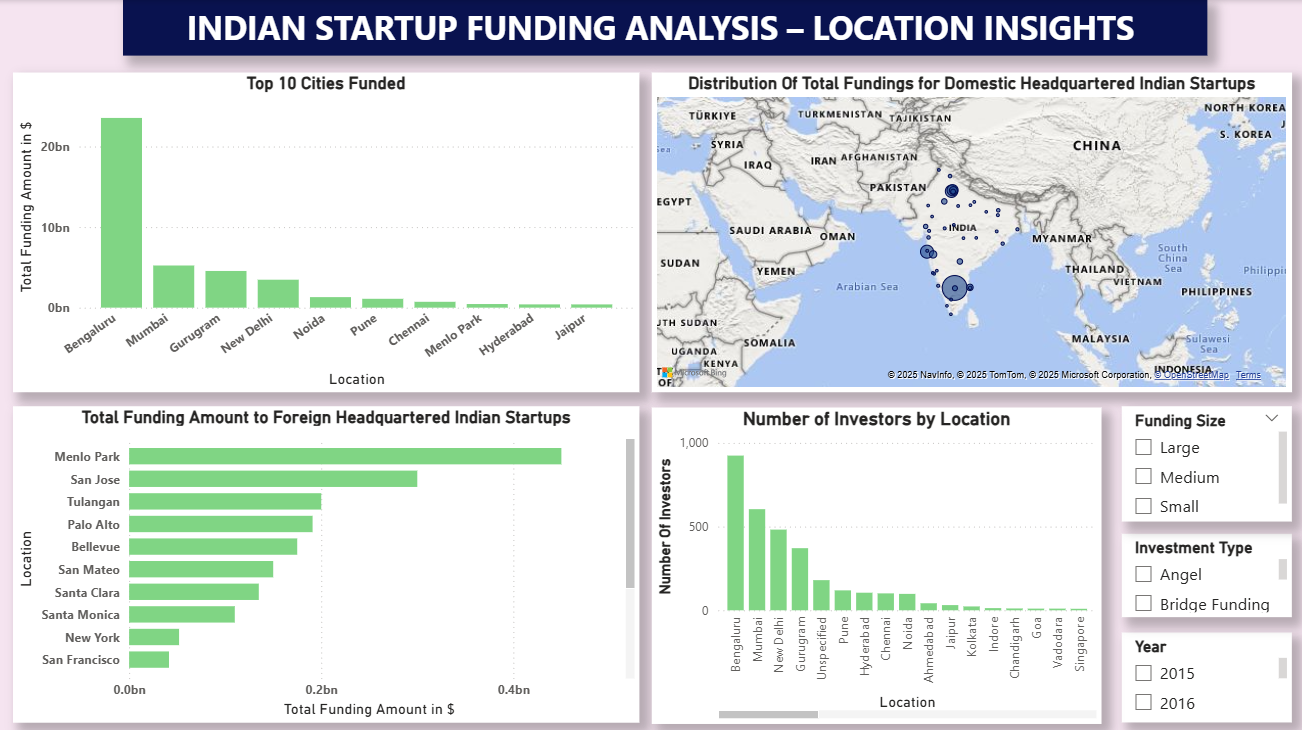

This screenshot's page, from the dashboard's own definition file:
{"tool":"powerbi","page":{"name":"Location Insights","canvas":[1280,720],"ordinal":2},"visuals":[{"type":"textbox","box":[122.6,0,1060.5,54.2],"z":0},{"type":"columnChart","title":"Top 10 Cities Funded","fields":{"Category":["indian_startup_funding csv.Location"],"Y":["Sum(indian_startup_funding csv.Amount in USD)"]},"box":[14.7,70.9,612.6,313],"z":1000},{"type":"map","title":"Distribution Of Total Fundings for Domestic Headquartered Indian Startups","fields":{"Size":["Sum(indian_startup_funding csv.Amount in USD)"],"Category":["indian_startup_funding csv.Location"]},"box":[639.5,70.9,626.1,313],"z":2000},{"type":"barChart","title":"Total Funding Amount to Foreign Headquartered Indian Startups","fields":{"Category":["indian_startup_funding csv.Location"],"Y":["Sum(indian_startup_funding csv.Amount in USD)"]},"box":[14.7,397.4,612.6,309.4],"z":3000},{"type":"slicer","fields":{"Values":["indian_startup_funding csv.Date.Variation.Date Hierarchy.Year"]},"box":[1099.3,618.8,166.3,88],"z":4000},{"type":"slicer","fields":{"Values":["indian_startup_funding csv.Investment Type"]},"box":[1099.3,522.1,166.3,81.9],"z":5000},{"type":"slicer","fields":{"Values":["indian_startup_funding csv.Funding Size"]},"box":[1099.3,397.4,166.3,112.5],"z":6000},{"type":"columnChart","title":"Number of Investors by Location","fields":{"Category":["indian_startup_funding csv.Location"],"Y":["CountNonNull(indian_startup_funding csv.Investors)"]},"box":[639.5,398.6,440.2,309.4],"z":6001}]}

Visuals, with their boxes in screenshot pixels (x1, y1, x2, y2), scaled from the page's 1280x720 canvas onto the 1302x730 screenshot:
textbox: 125, 0, 1203, 55
"Top 10 Cities Funded" columnChart: 15, 72, 638, 389
"Distribution Of Total Fundings for Domestic Headquartered Indian Startups" map: 650, 72, 1287, 389
"Total Funding Amount to Foreign Headquartered Indian Startups" barChart: 15, 403, 638, 717
slicer - indian_startup_funding csv.Date.Variation.Date Hierarchy.Year: 1118, 627, 1287, 717
slicer - indian_startup_funding csv.Investment Type: 1118, 529, 1287, 612
slicer - indian_startup_funding csv.Funding Size: 1118, 403, 1287, 517
"Number of Investors by Location" columnChart: 650, 404, 1098, 718
